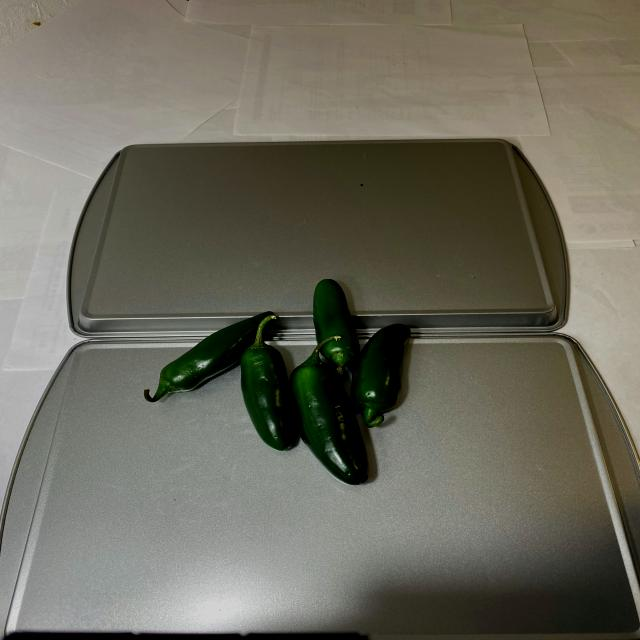chilli: (145, 275, 423, 483)
